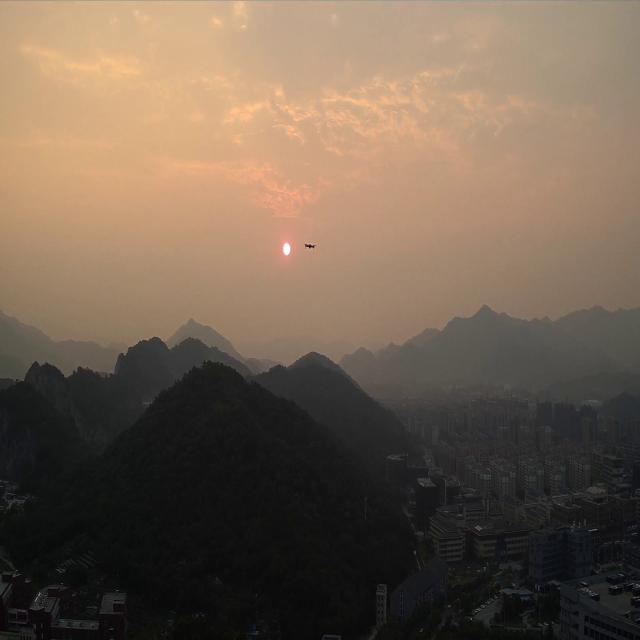drone: (304, 242, 317, 250)
